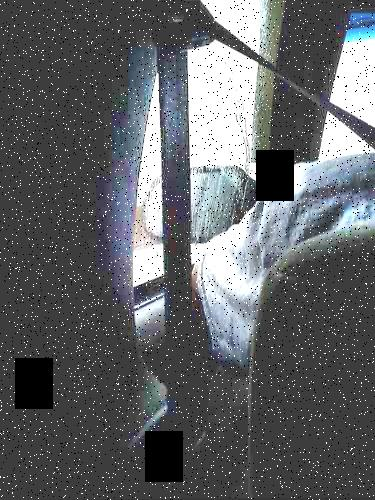seatbelt: (147, 19, 362, 193)
